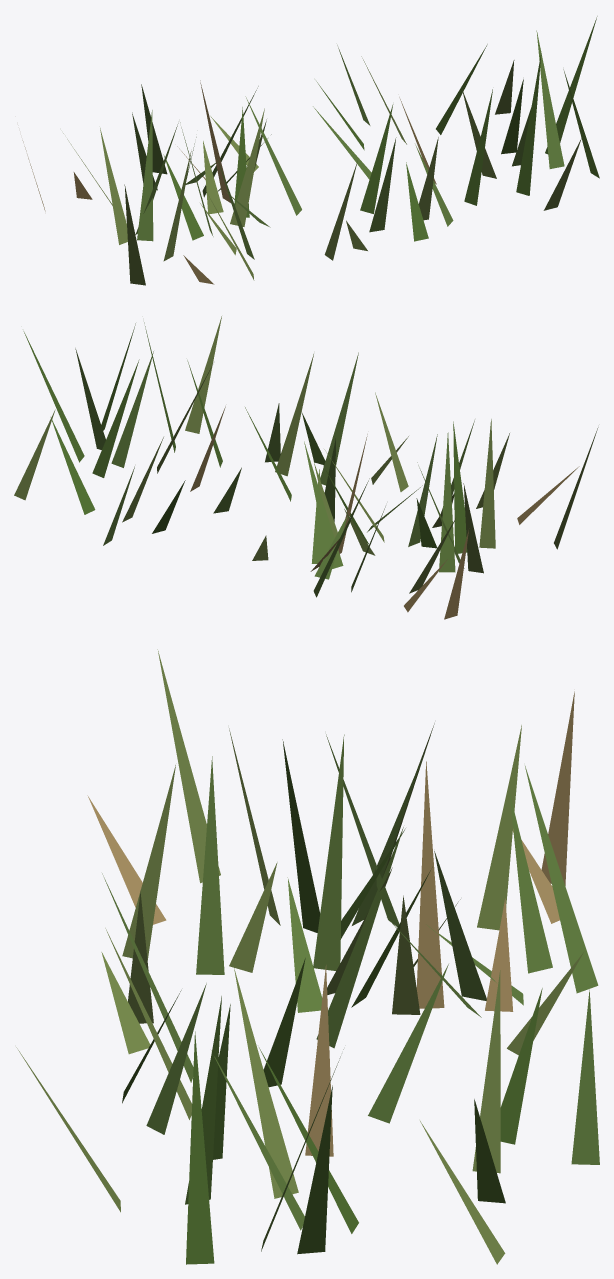
File: roadside-grasses.obj
3 renders of one model, top to bottom at view 1: azimuth 30°, elevation 25°; view 2: azimuth 150°, elevation 25°; view 3: azimuth 270°, elevation 25°, orthographic. The views are drawn at different scales.
Bounding box in the file's own units: 3.67 × 0.8855 × 2.05.
